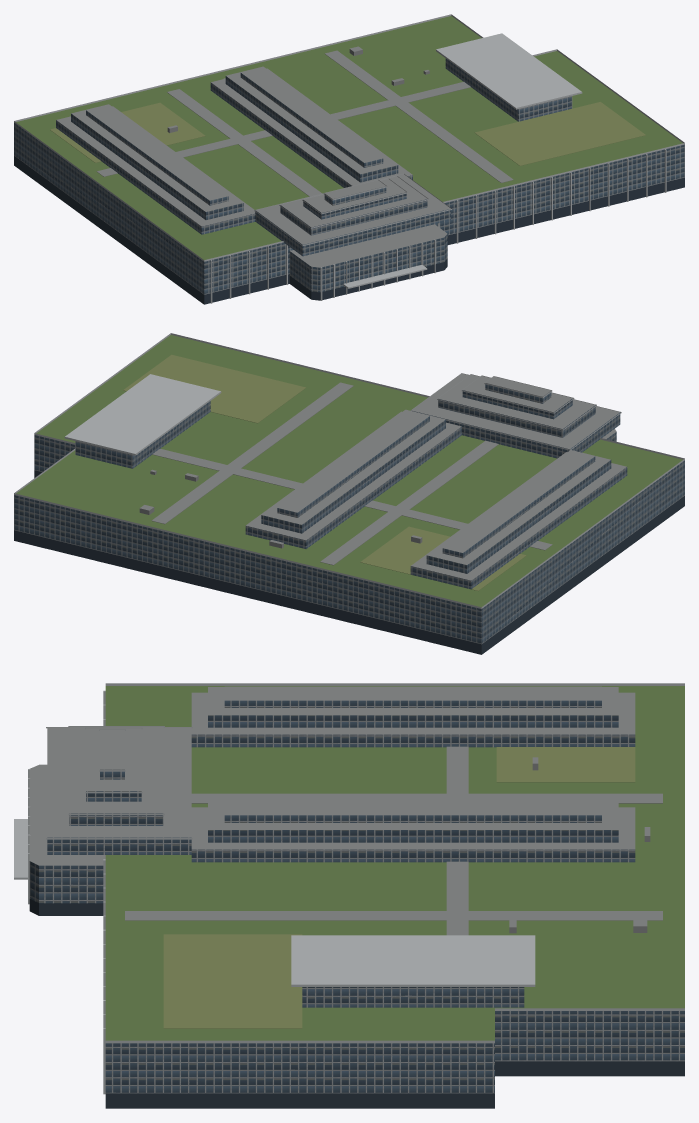
Rendered from javits_center.glb.
3 views of the same model, one above another, from view 1: azimuth 30°, elevation 25°; view 2: azimuth 150°, elevation 25°; view 3: azimuth 270°, elevation 25° (orthographic). The views are drawn at different scales.
Visible parts, largest first — view 1: javits_center; view 2: javits_center; view 3: javits_center.
Part boxes in pixels (left/top/right/bottom): javits_center: left=14, top=14, right=684, bottom=304; javits_center: left=14, top=333, right=684, bottom=654; javits_center: left=14, top=683, right=684, bottom=1108.
Bounding box in the file's own units: 305 × 46 × 242.
Materials: 2 (2 with a texture image).
